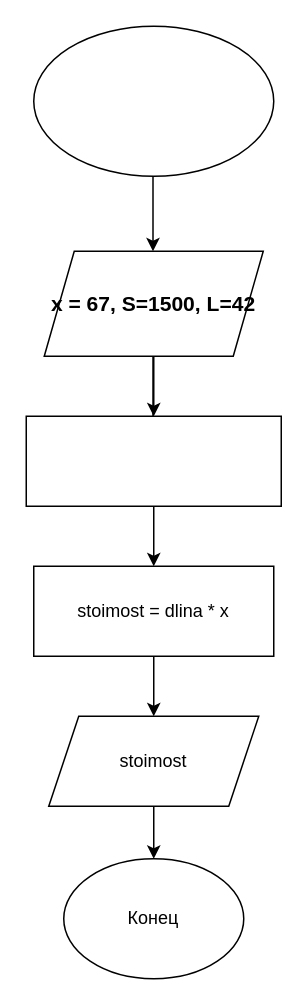
This 308x1005 diagram has some shape labels left out. Each missing label, with the centre of its shape:
dlina = S / (L/100): pixel 153 460
Начало: pixel 153 100
